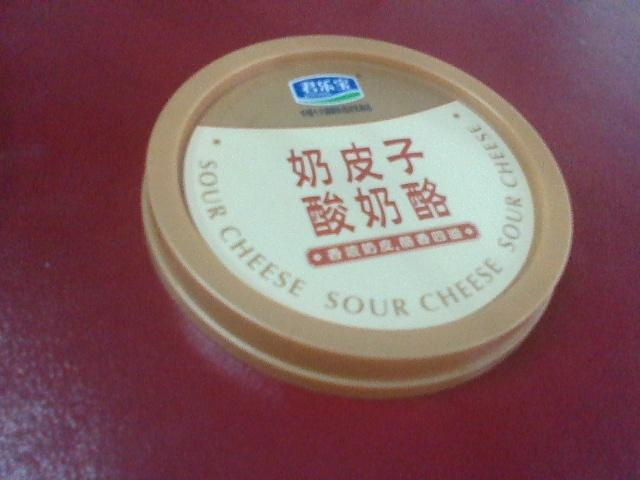lid: (123, 31, 585, 404)
